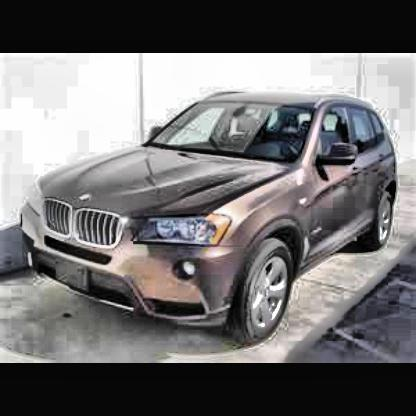BMW X3 SUV 2012: (20, 92, 402, 351)
